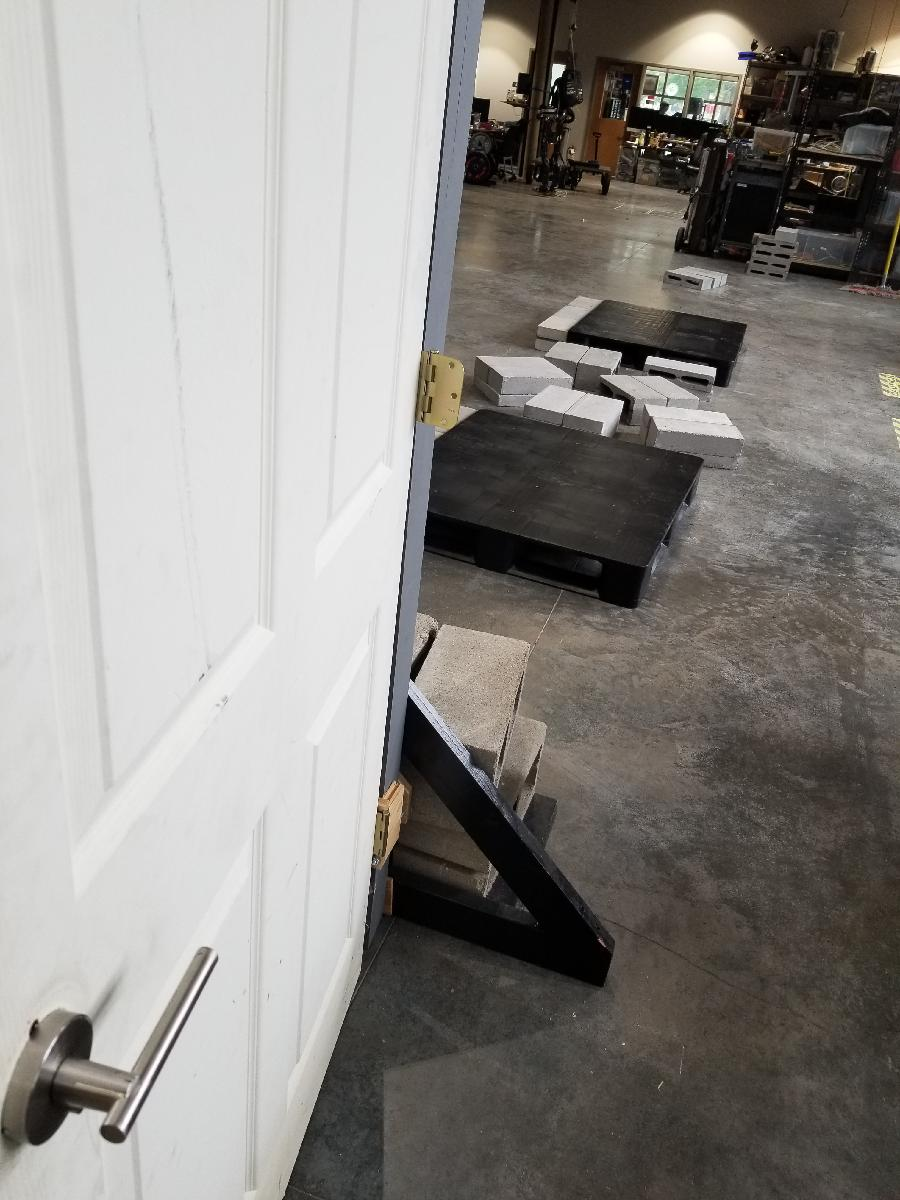doorHandle: (3, 929, 223, 1162)
